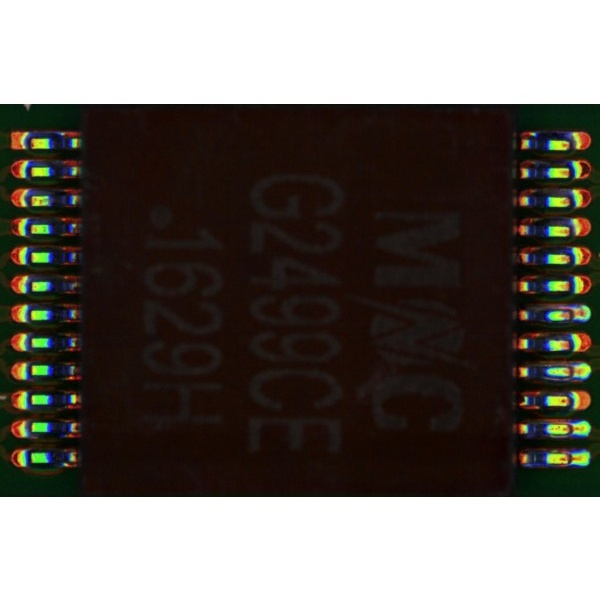Bad_podu: (560, 454, 582, 462), (564, 366, 580, 375), (566, 309, 580, 319), (564, 425, 582, 432)
